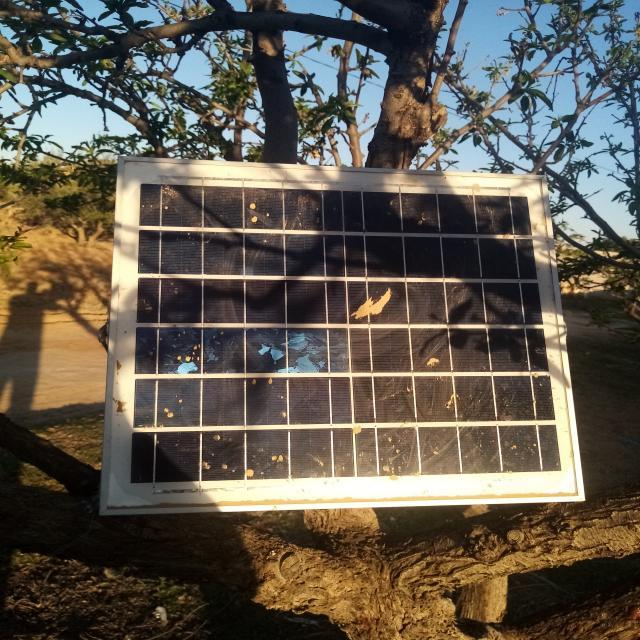faulty: (101, 160, 585, 515)
